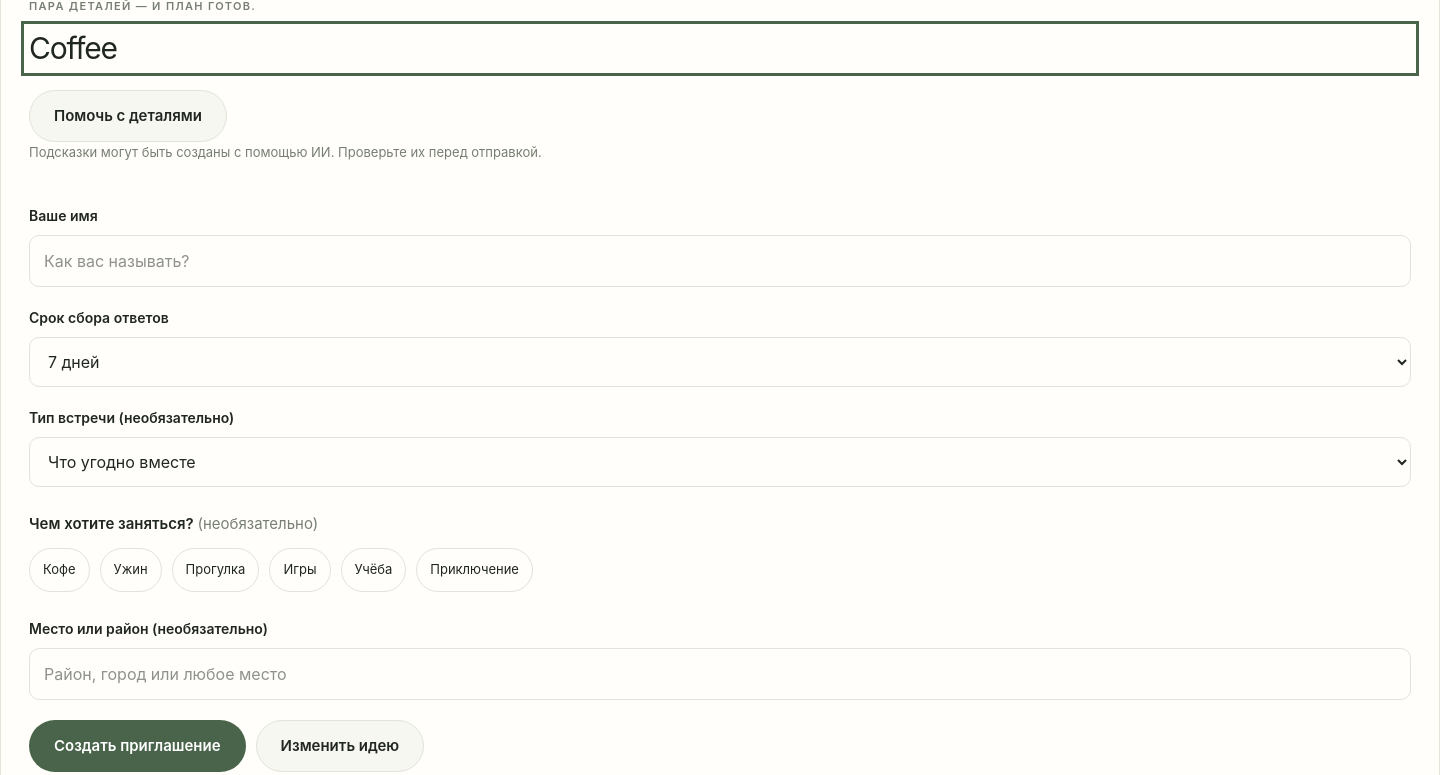
Test: optional reviewed assistance › keeps manual creation enabled after a parsing request fails
The image size is (1440, 775).
Type "Maya" into the field labelled "Ваше имя". click: point(720, 261)
box: left=29, top=235, right=1411, bottom=287
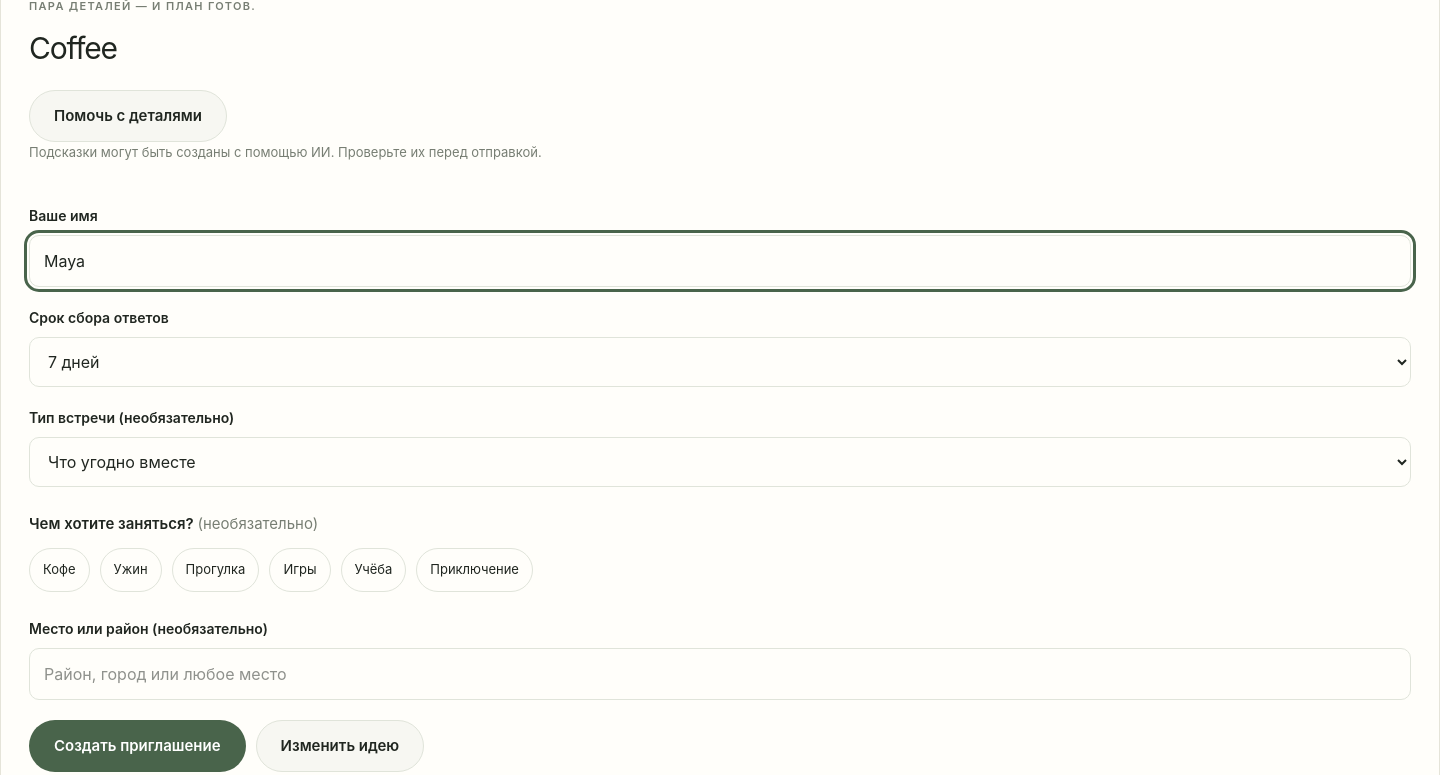
Click the button "Помочь с деталями". click: point(128, 116)
box: left=29, top=90, right=227, bottom=142
(page scrolled)
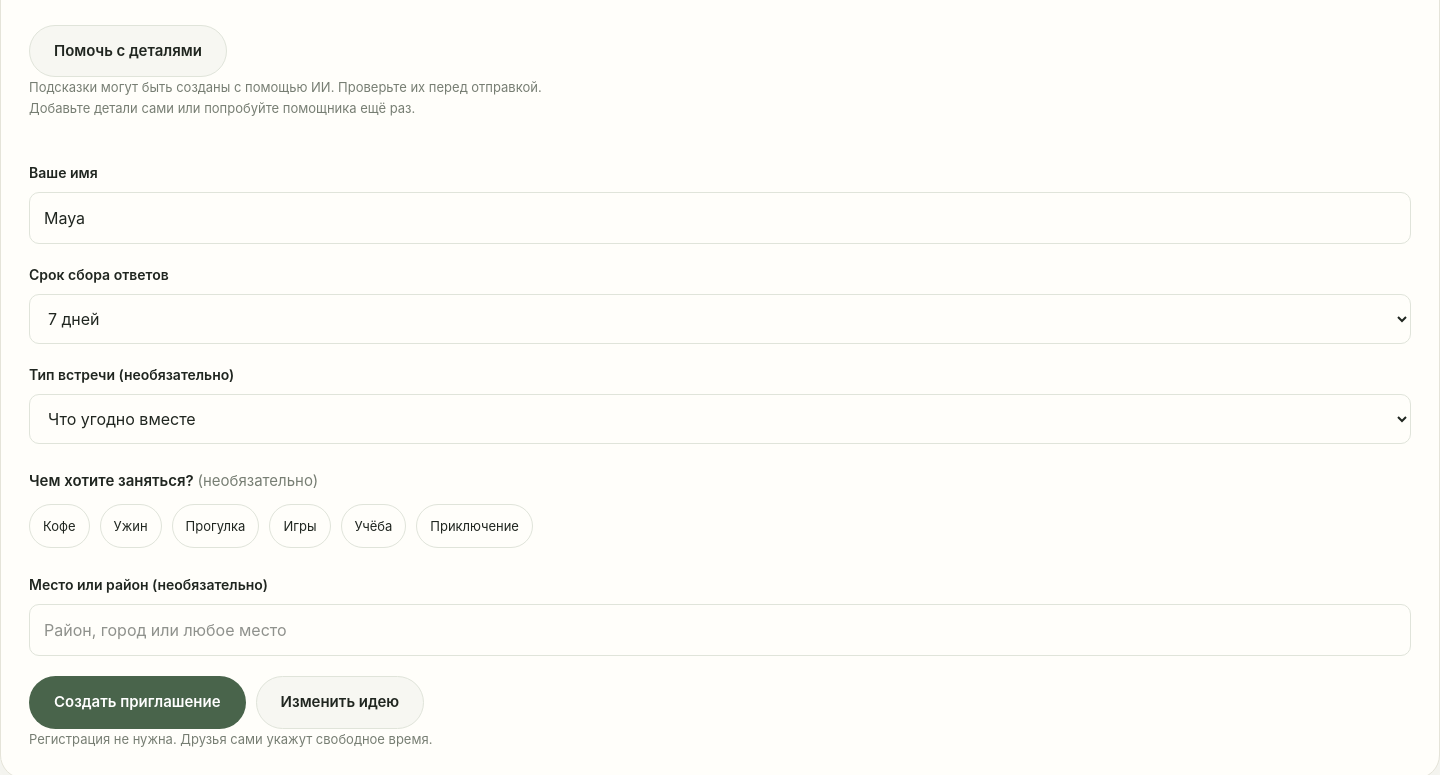
Expected: the button "Создать приглашение" is enabled, left=29, top=676, right=246, bottom=729
Result: the text "Добавьте детали сами или попробуйте помощника ещё раз." is shown at left=29, top=100, right=415, bottom=116
